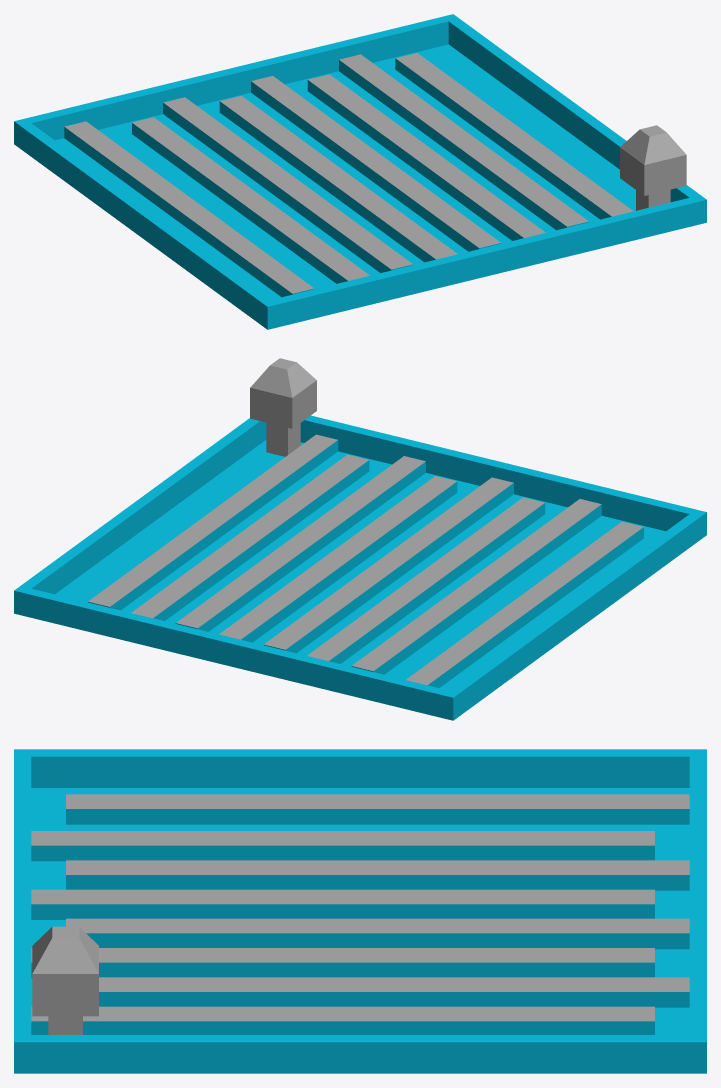
Rendered from ModelGame.fbx.
3 views of the same model, one above another, from view 1: azimuth 30°, elevation 25°; view 2: azimuth 150°, elevation 25°; view 3: azimuth 270°, elevation 25° (orthographic). The views are drawn at different scales.
Parts seen in each view (by area): view 1: GameZone, Tower; view 2: GameZone, Tower; view 3: GameZone, Tower.
Part boxes in pixels (<box>): GameZone: <box>14,14,706,329</box>; Tower: <box>620,125,686,210</box>; GameZone: <box>14,415,706,720</box>; Tower: <box>250,358,316,456</box>; GameZone: <box>14,749,706,1073</box>; Tower: <box>32,926,98,1034</box>.
Size of the model in its own units: 20 by 3.78 by 20.
